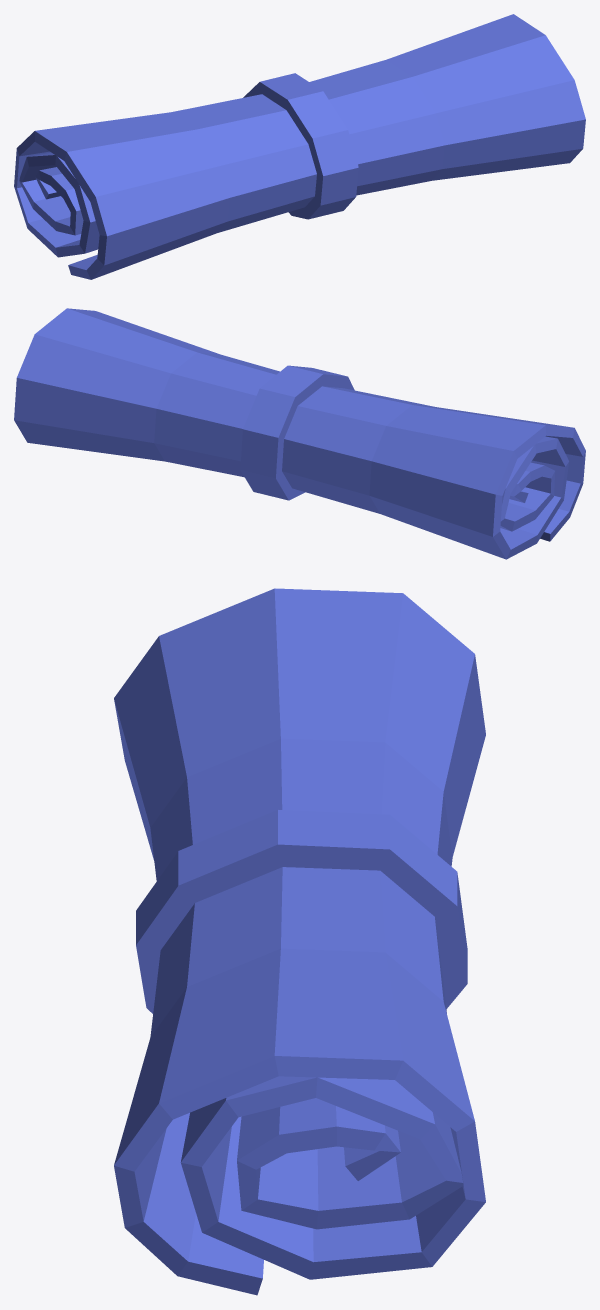
File: Scroll.002.fbx
3 views of the same model, one above another, from view 1: azimuth 30°, elevation 25°; view 2: azimuth 150°, elevation 25°; view 3: azimuth 270°, elevation 25° (orthographic). The views are drawn at different scales.
Visible parts, largest first — view 1: Scroll.002; view 2: Scroll.002; view 3: Scroll.002.
Part boxes in pixels (x1=…): Scroll.002: x1=14, y1=14, x2=585, y2=279; Scroll.002: x1=14, y1=308, x2=585, y2=559; Scroll.002: x1=114, y1=588, x2=485, y2=1295.
Bounding box in the file's own units: 48.48 × 11.48 × 16.16.
